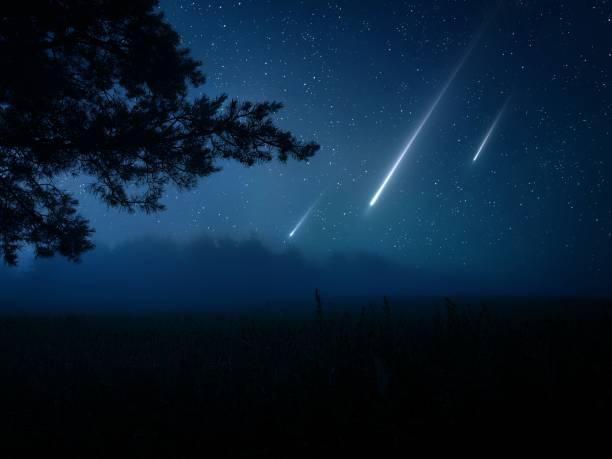meteor: (359, 196, 383, 215), (283, 230, 305, 245), (470, 154, 485, 167)
